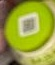2d: (20, 14, 37, 36)
